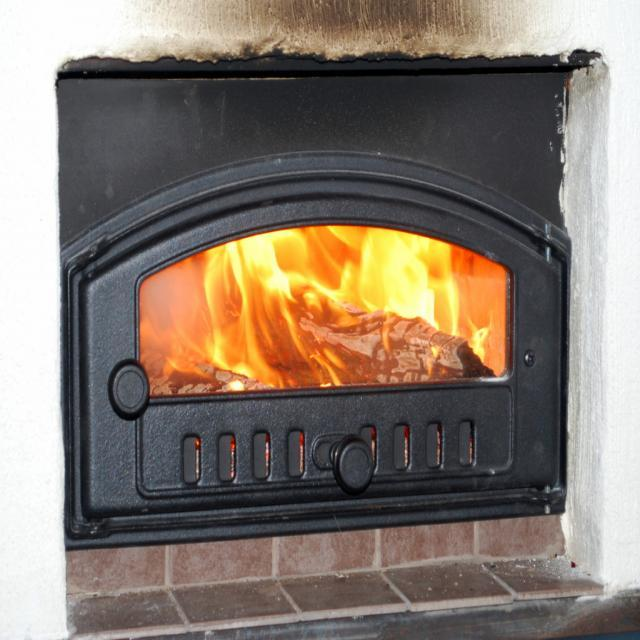Fire: (138, 237, 536, 388)
